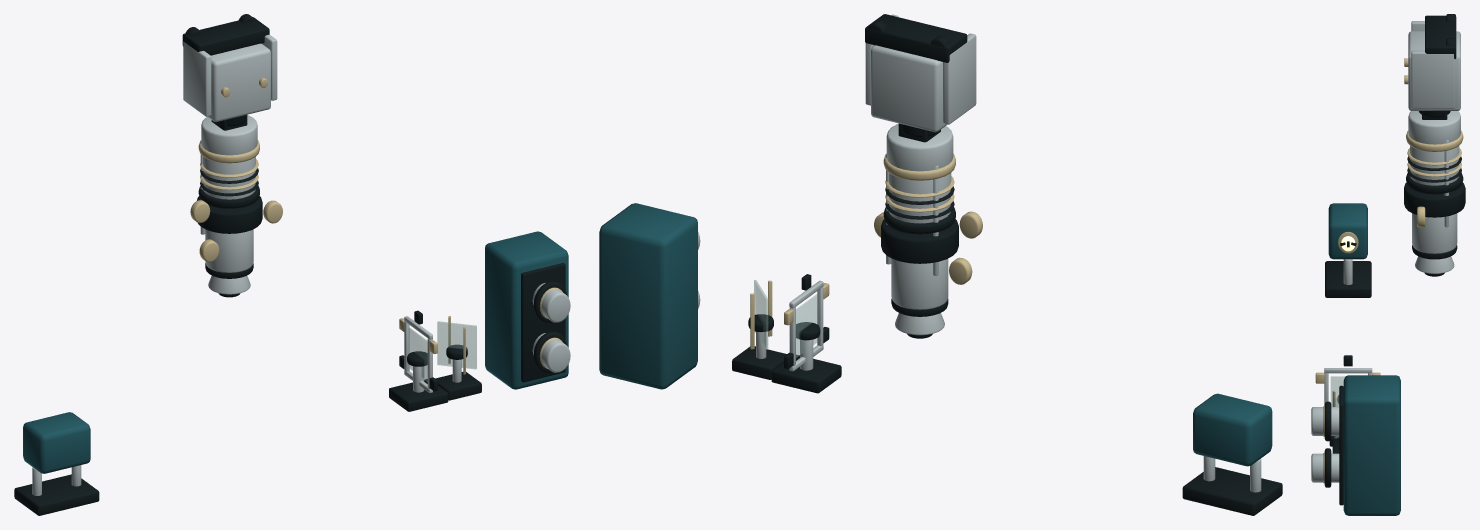
File: rig.glb
3 renders of one model, left to right at view 1: azimuth 30°, elevation 25°; view 2: azimuth 150°, elevation 25°; view 3: azimuth 270°, elevation 25°, orthographic. The views are drawn at different scales.
Visible parts, largest first — view 1: DETECTOR_HOUSING, CARRIAGE_BODY, HEAD_BARREL_01, SOURCE_BODY, HEAD_BARREL_00, DETECTOR_FACEPLATE, CARRIAGE_GUIDE_SADDLE, HEAD_COLLAR_-0_82, SOURCE_LENS, DETECTOR_STANDOFF_0.3, COUPLER_HALF_MIRROR, SELECTOR_BASE (+2 smaller); view 2: DETECTOR_HOUSING, CARRIAGE_BODY, HEAD_BARREL_01, SOURCE_BODY, HEAD_BARREL_00, CARRIAGE_GUIDE_SADDLE, SOURCE_LENS, HEAD_COLLAR_-0_82, SELECTOR_BASE, COUPLER_BASE, FILTER_FRAME_TOP, SPECIMEN_OPTIC; view 3: DETECTOR_HOUSING, HEAD_BARREL_01, CARRIAGE_BODY, HEAD_BARREL_00, SOURCE_BODY, SOURCE_LENS, CARRIAGE_GUIDE_SADDLE, DETECTOR_STANDOFF_0.3, HEAD_COLLAR_-0_82, DETECTOR_FACEPLATE, FILTER_FRAME_TOP, RECEIVER_BOTTOM_ACTION_RIM (+4 smaller).
Part boxes in pixels (bbox=[...]): DETECTOR_HOUSING: bbox=[485, 231, 568, 389]; CARRIAGE_BODY: bbox=[183, 34, 277, 121]; HEAD_BARREL_01: bbox=[200, 115, 257, 294]; SOURCE_BODY: bbox=[23, 412, 90, 473]; HEAD_BARREL_00: bbox=[197, 115, 262, 297]; DETECTOR_FACEPLATE: bbox=[521, 263, 565, 382]; CARRIAGE_GUIDE_SADDLE: bbox=[182, 14, 269, 130]; HEAD_COLLAR_-0_82: bbox=[190, 140, 282, 262]; SOURCE_LENS: bbox=[14, 474, 99, 515]; DETECTOR_STANDOFF_0.3: bbox=[532, 283, 570, 372]; COUPLER_HALF_MIRROR: bbox=[437, 321, 476, 369]; SELECTOR_BASE: bbox=[389, 351, 448, 411]; DETECTOR_HOUSING: bbox=[599, 203, 697, 389]; CARRIAGE_BODY: bbox=[865, 14, 976, 132]; HEAD_BARREL_01: bbox=[886, 124, 953, 335]; SOURCE_BODY: bbox=[1193, 393, 1272, 466]; HEAD_BARREL_00: bbox=[881, 124, 958, 338]; CARRIAGE_GUIDE_SADDLE: bbox=[865, 14, 967, 142]; SOURCE_LENS: bbox=[1182, 467, 1282, 515]; HEAD_COLLAR_-0_82: bbox=[874, 153, 982, 284]; SELECTOR_BASE: bbox=[771, 322, 841, 393]; COUPLER_BASE: bbox=[732, 314, 786, 379]; FILTER_FRAME_TOP: bbox=[789, 280, 823, 371]; SPECIMEN_OPTIC: bbox=[796, 294, 818, 357]; DETECTOR_HOUSING: bbox=[1343, 375, 1400, 515]; HEAD_BARREL_01: bbox=[1408, 111, 1460, 273]; CARRIAGE_BODY: bbox=[1408, 21, 1460, 110]; HEAD_BARREL_00: bbox=[1404, 111, 1465, 276]; SOURCE_BODY: bbox=[1328, 203, 1367, 259]; SOURCE_LENS: bbox=[1325, 261, 1371, 297]; CARRIAGE_GUIDE_SADDLE: bbox=[1422, 14, 1456, 119]; DETECTOR_STANDOFF_0.3: bbox=[1311, 407, 1339, 482]; HEAD_COLLAR_-0_82: bbox=[1406, 130, 1463, 227]; DETECTOR_FACEPLATE: bbox=[1339, 385, 1343, 505]; FILTER_FRAME_TOP: bbox=[1324, 368, 1372, 405]; RECEIVER_BOTTOM_ACTION_RIM: bbox=[1324, 448, 1331, 487].
Size of the model in its own units: 7.75 by 5.27 by 2.05.
